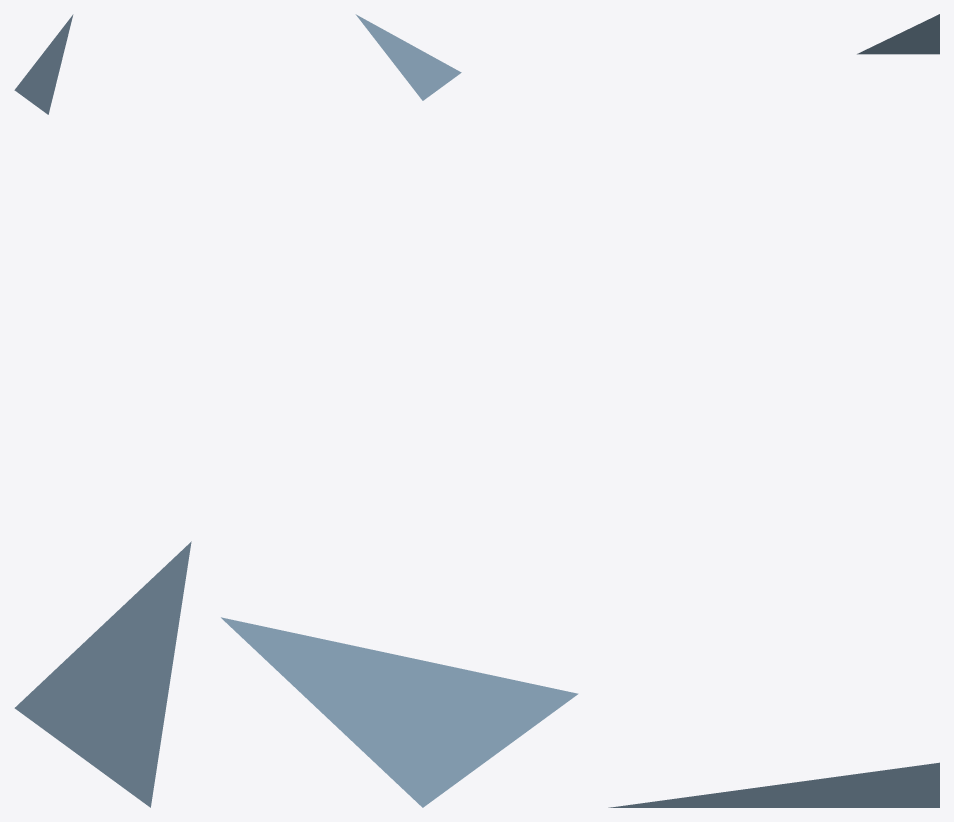
The model's file is nested_mesh.gltf.
3 renders of one model, left to right at view 1: azimuth 30°, elevation 25°; view 2: azimuth 150°, elevation 25°; view 3: azimuth 270°, elevation 25°, orthographic. The views are drawn at different scales.
Size of the model in its own units: 3 by 11 by 4.
